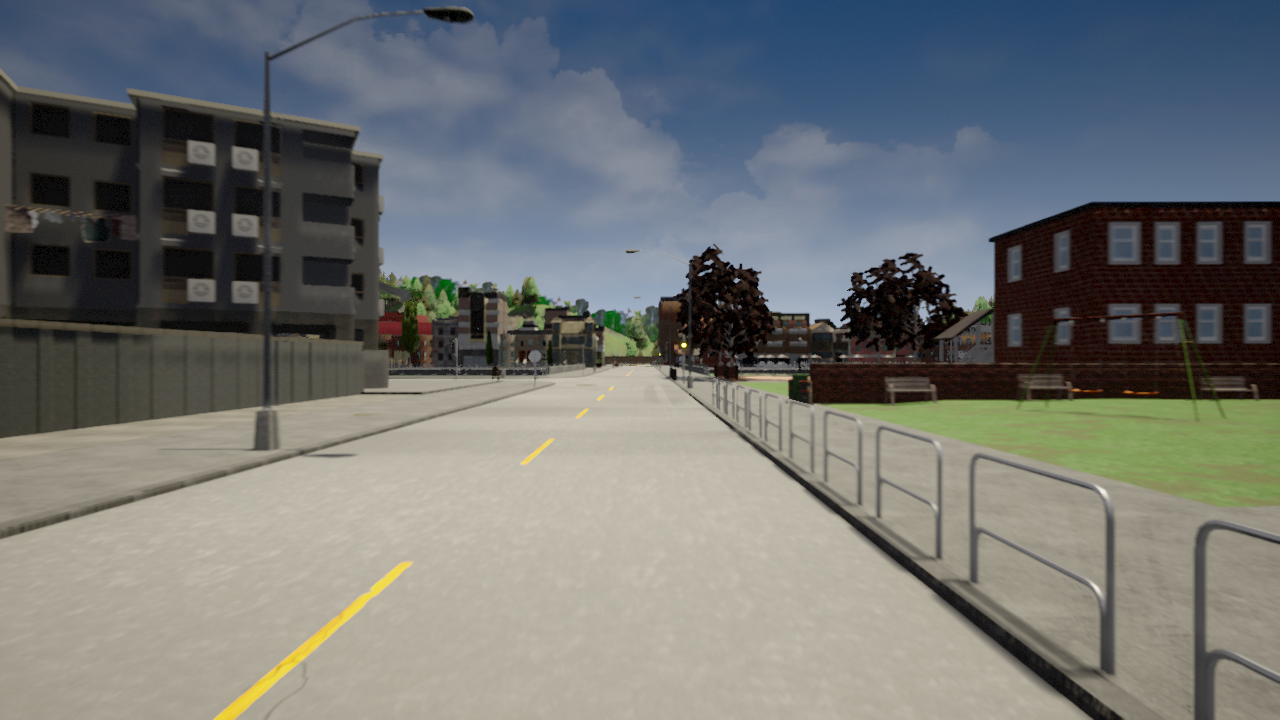yellow: (680, 337, 687, 353)
